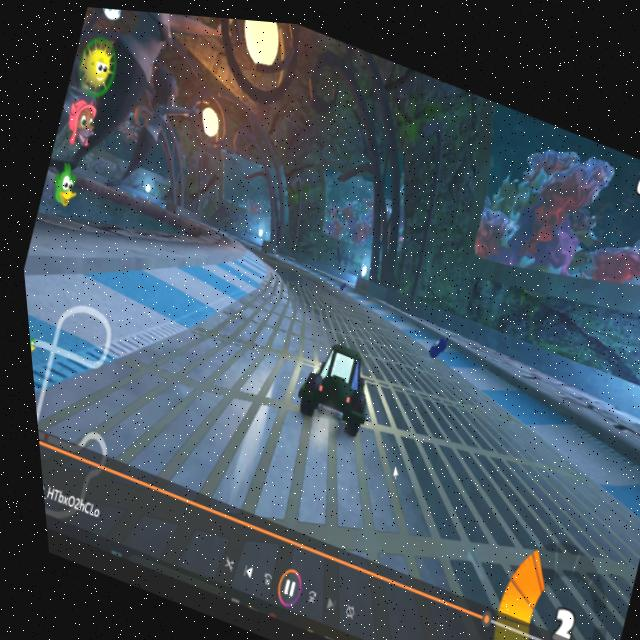nitro: (419, 327, 444, 359), (330, 276, 348, 293)
off_track: (159, 241, 256, 317)
player_kart: (276, 312, 383, 435)
track: (248, 252, 335, 322)
